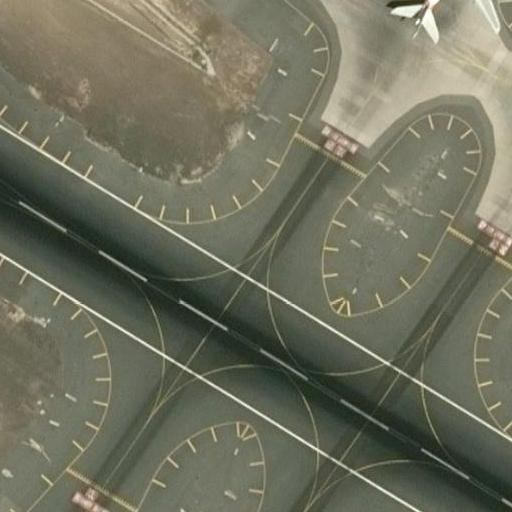Aircraft: (373, 0, 504, 47)
